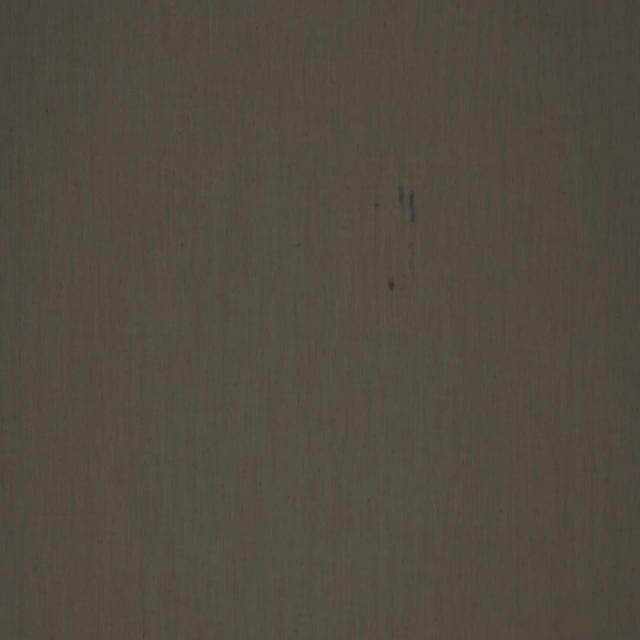dirty: (396, 184, 406, 205), (409, 192, 415, 225), (388, 278, 395, 292)
